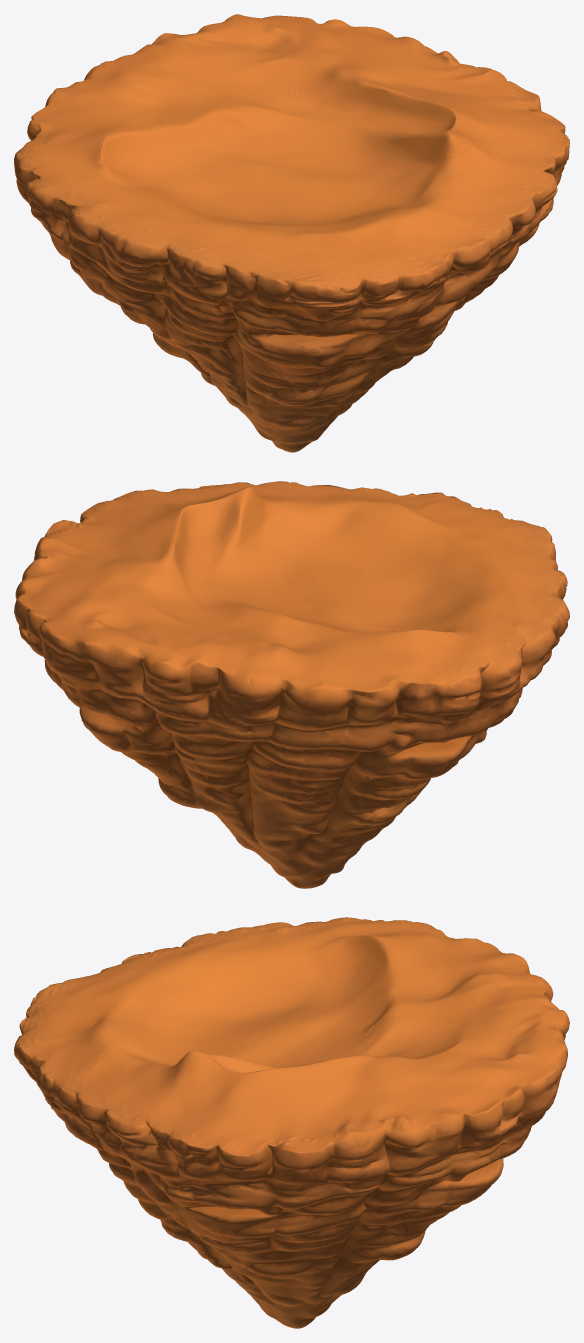
The model's file is island_base.glb.
3 views of the same model, one above another, from view 1: azimuth 30°, elevation 25°; view 2: azimuth 150°, elevation 25°; view 3: azimuth 270°, elevation 25° (orthographic). The views are drawn at different scales.
Parts seen in each view (by area): view 1: tripo_node_f5cdd948-1c5e-4423-b8d7-025f5348366e; view 2: tripo_node_f5cdd948-1c5e-4423-b8d7-025f5348366e; view 3: tripo_node_f5cdd948-1c5e-4423-b8d7-025f5348366e.
Boxes of the visible parts, left/top/right/bottom form: tripo_node_f5cdd948-1c5e-4423-b8d7-025f5348366e: left=14, top=14, right=569, bottom=452; tripo_node_f5cdd948-1c5e-4423-b8d7-025f5348366e: left=14, top=481, right=569, bottom=888; tripo_node_f5cdd948-1c5e-4423-b8d7-025f5348366e: left=14, top=917, right=569, bottom=1328.
Bounding box in the file's own units: 29.98 × 19.51 × 30.
Materials: 1 (1 with a texture image).
